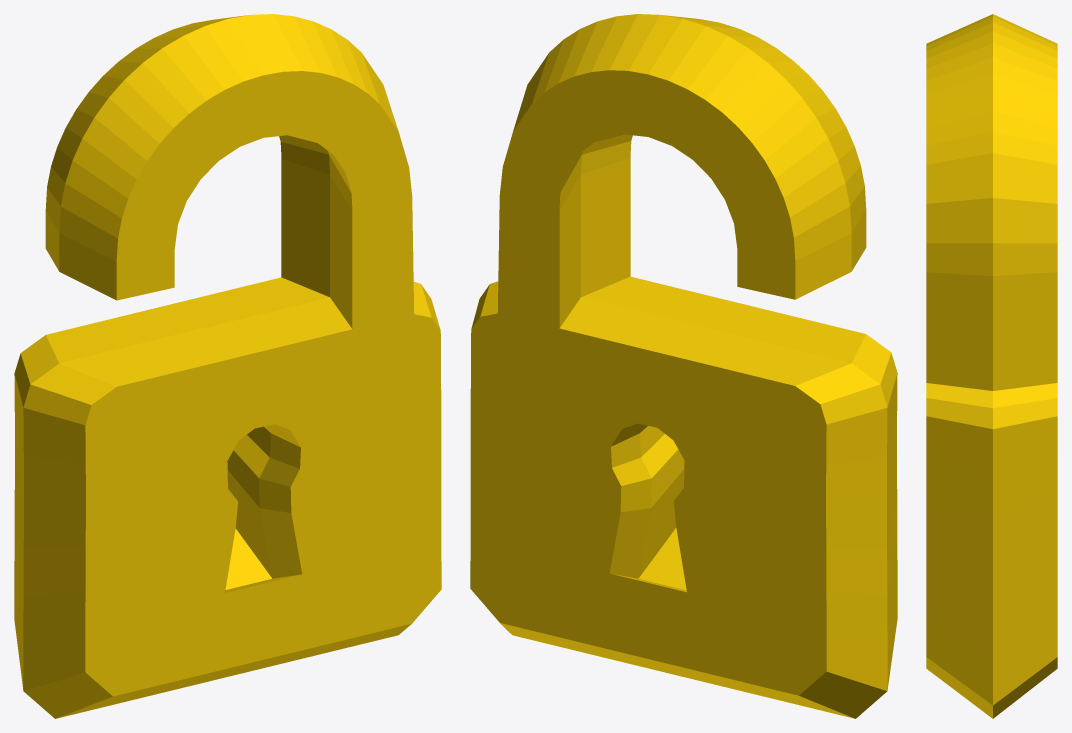
The model's file is unlocksigil.fbx.
The picture shows the model from 3 angles, left to right: view 1: azimuth 30°, elevation 25°; view 2: azimuth 150°, elevation 25°; view 3: azimuth 270°, elevation 25°; orthographic projection. The views are drawn at different scales.
Parts seen in each view (by area): view 1: Curve.001; view 2: Curve.001; view 3: Curve.001.
Part boxes in pixels (left/top/right/bottom): Curve.001: left=14, top=14, right=441, bottom=718; Curve.001: left=470, top=14, right=897, bottom=718; Curve.001: left=926, top=14, right=1057, bottom=718.
Size of the model in its own units: 99.92 by 154 by 30.03.
